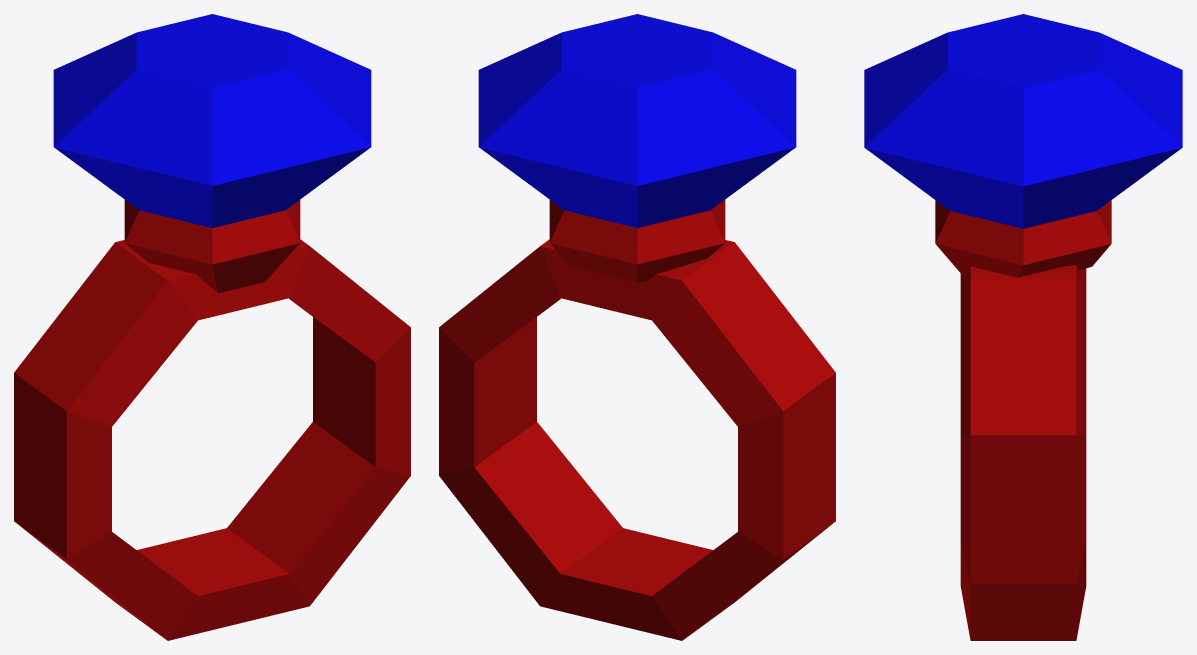
Rendered from Ring_03.fbx.
3 renders of one model, left to right at view 1: azimuth 30°, elevation 25°; view 2: azimuth 150°, elevation 25°; view 3: azimuth 270°, elevation 25°, orthographic.
Visible parts, largest first — view 1: SM_Item_Ring_03; view 2: SM_Item_Ring_03; view 3: SM_Item_Ring_03.
Boxes of the visible parts, left/top/right/bottom form: SM_Item_Ring_03: left=14, top=14, right=410, bottom=640; SM_Item_Ring_03: left=439, top=14, right=835, bottom=640; SM_Item_Ring_03: left=864, top=14, right=1182, bottom=640.
Size of the model in its own units: 5.07 by 7.79 by 4.05.
